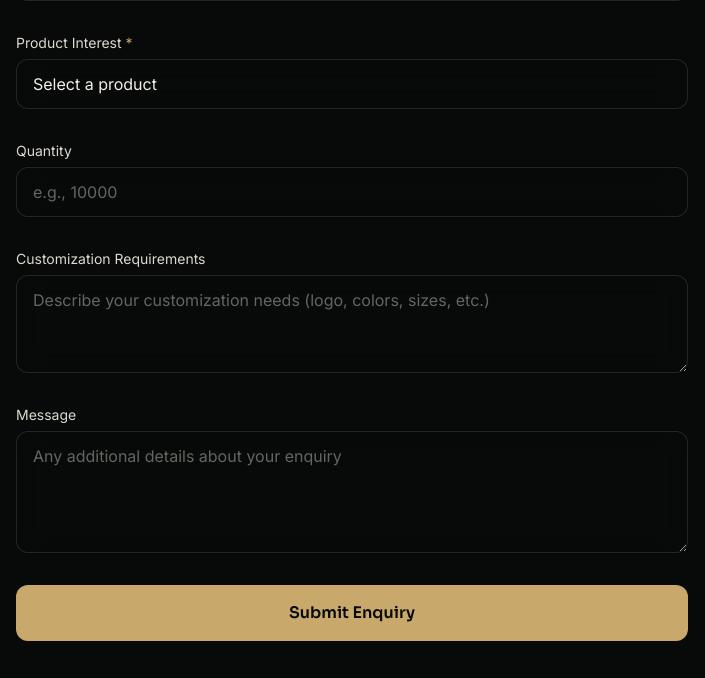
Test case: EnquiryFormWrapper – Submission Flows › Validation error display for each required field (Req 4.4) › shows inline validation errors when submitting empty form
This screenshot has width=705, height=678.
(page scrolled)
Click the button "Submit Enquiry" at (352, 613), box [16,585,688,641]
(page scrolled)
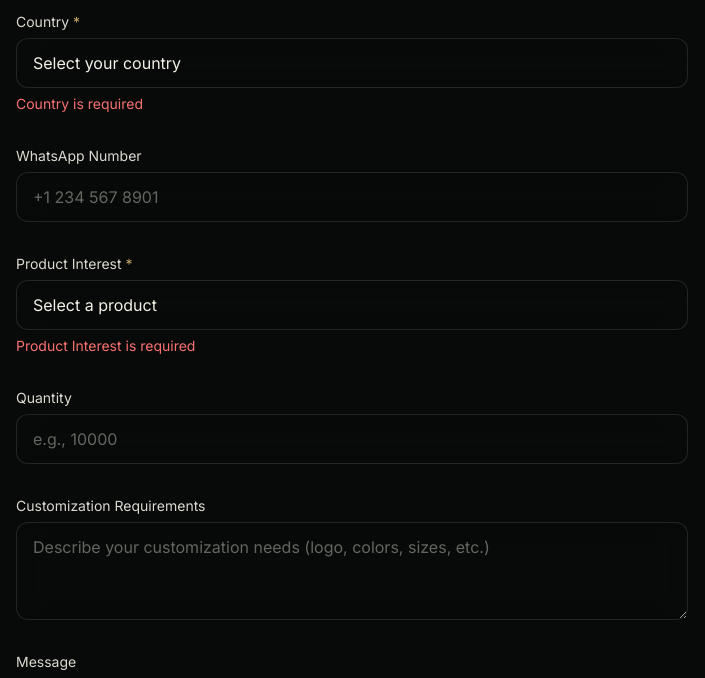
Now the text "Country is required" is shown, box [16,95,143,112]
Now the text "Product Interest is required" is shown, box [16,337,195,354]
